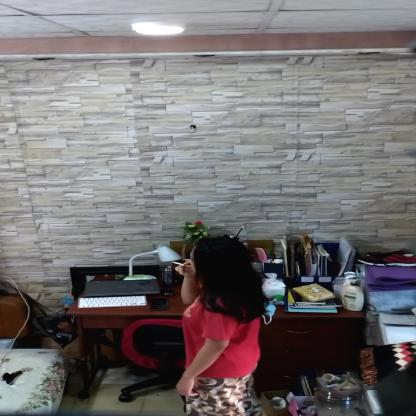cigarette: (170, 261, 191, 268)
person: (176, 236, 271, 415)
